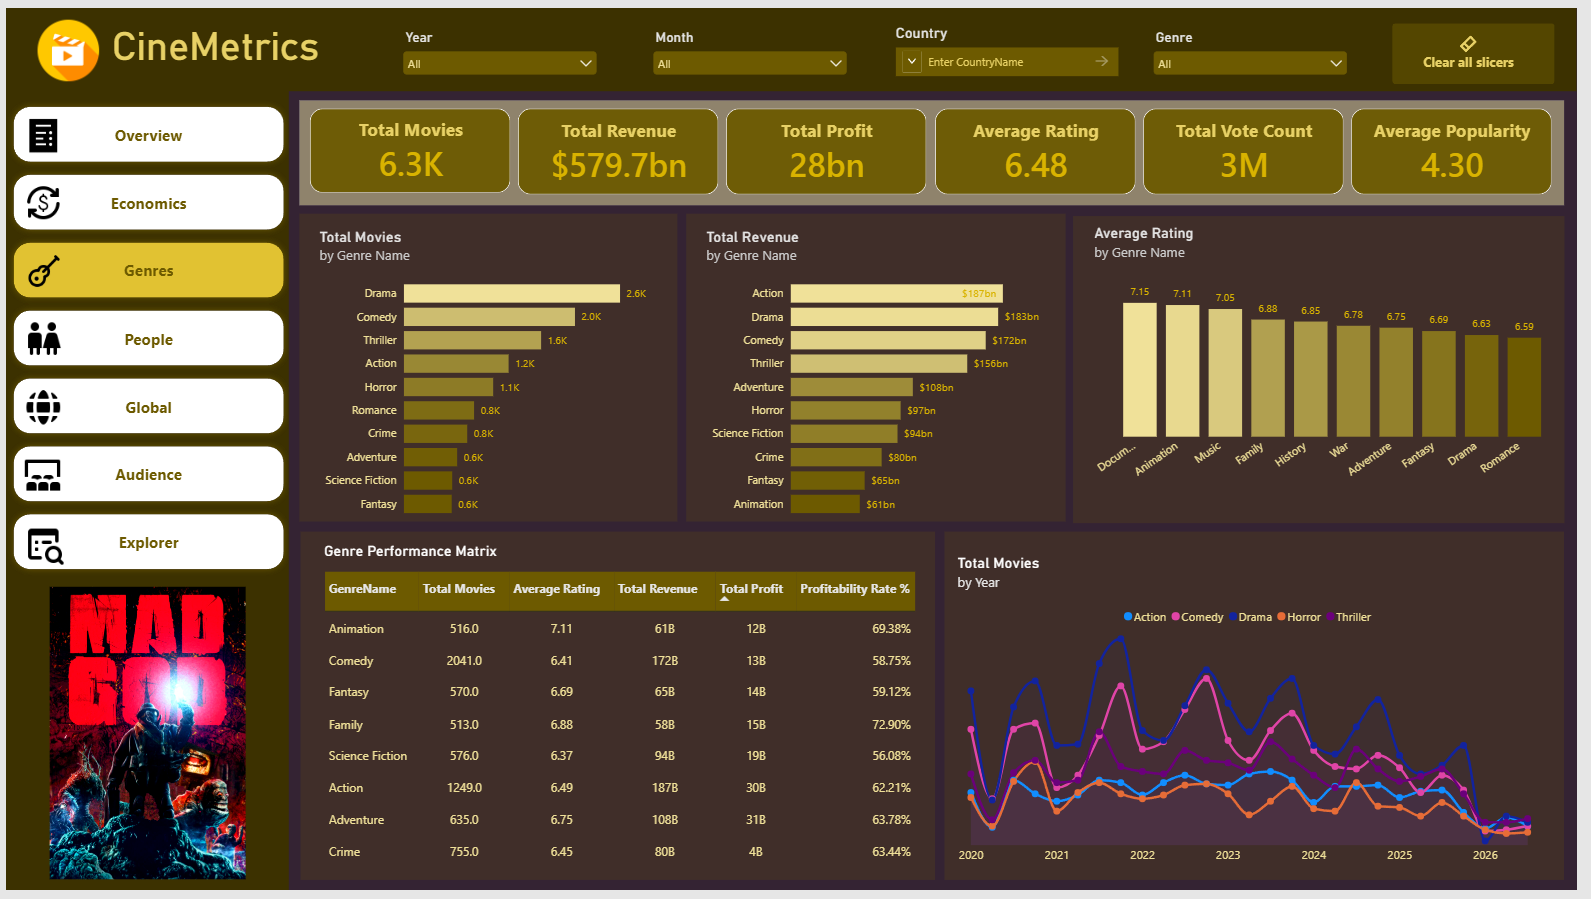

What the dashboard file says about the page in this screenshot:
{"tool":"powerbi","page":{"name":"Genres","canvas":[1920,1080],"ordinal":3},"visuals":[{"type":"shape","box":[0,0,1919.7,101.7],"z":0,"group":"g1"},{"type":"group","id":"g1","title":"header","box":[0,0,1919.7,101.7],"z":0},{"type":"shape","box":[0,101.2,346,978.8],"z":0,"group":"g2"},{"type":"shape","box":[359.3,112.6,1546,128.7],"z":0,"group":"g3"},{"type":"textbox","title":"CineMetrics","box":[130.3,19.1,274.9,62],"z":1000,"group":"g1"},{"type":"group","id":"g2","title":"side panel","box":[0,101.2,347.9,978.8],"z":1000},{"type":"pageNavigator","box":[1.9,112.7,346,585],"z":1000,"group":"g2"},{"type":"cardVisual","fields":{"Data":["measure_KPI.Total Movies"]},"box":[372.2,122.8,245.6,103.8],"z":1000,"group":"g3"},{"type":"image","box":[38.3,13.8,75,75],"z":2000,"group":"g1"},{"type":"group","id":"g3","title":"kpis","box":[359.3,112.6,1546,128.7],"z":2000},{"type":"cardVisual","fields":{"Data":["measure_KPI.Total Profit"]},"box":[881.3,122.8,245.9,105.3],"z":2000,"group":"g3"},{"type":"image","box":[11.5,707.2,323.1,359.4],"z":2000,"group":"g2"},{"type":"actionButton","box":[1693.7,19.1,198.8,74.6],"z":3000,"group":"g1"},{"type":"cardVisual","fields":{"Data":["measure_KPI.Average Popularity"]},"box":[1645.4,122.8,245.9,105.3],"z":3000,"group":"g3"},{"type":"image","box":[15,629.1,60.1,50.1],"z":3000,"group":"g2"},{"type":"slicer","fields":{"Values":["dim dim_date.MonthName"]},"box":[1382,13.3,278.7,86.8],"z":4000,"group":"g1"},{"type":"cardVisual","fields":{"Data":["measure_KPI.Total Vote Count"]},"box":[1390.7,122.8,245.9,105.3],"z":4000,"group":"g3"},{"type":"image","box":[15,545.9,60.1,50.1],"z":4000,"group":"g2"},{"type":"slicer","fields":{"Values":["dim dim_date.MonthName"]},"box":[1076,13.3,278.7,86.8],"z":5000,"group":"g1"},{"type":"cardVisual","fields":{"Data":["measure_KPI.Average Rating"]},"box":[1136,122.8,245.9,105.3],"z":5000,"group":"g3"},{"type":"image","box":[15,462.8,60.1,50.1],"z":5000,"group":"g2"},{"type":"slicer","fields":{"Values":["dim dim_date.MonthName"]},"box":[770,13.3,278.7,86.8],"z":6000,"group":"g1"},{"type":"cardVisual","fields":{"Data":["measure_KPI.Total Revenue"]},"box":[626.7,122.8,245.9,105.3],"z":6000,"group":"g3"},{"type":"image","box":[15,379.6,60.1,50.1],"z":6000,"group":"g2"},{"type":"slicer","fields":{"Values":["dim dim_date.Year"]},"box":[464,13.3,278.7,86.8],"z":7000,"group":"g1"},{"type":"image","box":[15,296.4,60.1,50.1],"z":7000,"group":"g2"},{"type":"image","box":[15,213.2,60.1,50.1],"z":8000,"group":"g2"},{"type":"image","box":[15,130.1,60.1,50.1],"z":9000,"group":"g2"}]}

Visuals, with their boxes in screenshot pixels (x1, y1, x2, y2), scaled from the page's 1920x1080 canvas onto the 1591x899 screenshot:
shape: pyautogui.locateOnScreen(0, 0, 1590, 85)
"header" group: pyautogui.locateOnScreen(0, 0, 1590, 85)
shape: pyautogui.locateOnScreen(0, 84, 287, 898)
shape: pyautogui.locateOnScreen(298, 94, 1579, 201)
"CineMetrics" textbox: pyautogui.locateOnScreen(108, 16, 336, 68)
"side panel" group: pyautogui.locateOnScreen(0, 84, 288, 898)
pageNavigator: pyautogui.locateOnScreen(2, 94, 288, 581)
cardVisual - measure_KPI.Total Movies: pyautogui.locateOnScreen(308, 102, 512, 189)
image: pyautogui.locateOnScreen(32, 11, 94, 74)
"kpis" group: pyautogui.locateOnScreen(298, 94, 1579, 201)
cardVisual - measure_KPI.Total Profit: pyautogui.locateOnScreen(730, 102, 934, 190)
image: pyautogui.locateOnScreen(10, 589, 277, 888)
actionButton: pyautogui.locateOnScreen(1403, 16, 1568, 78)
cardVisual - measure_KPI.Average Popularity: pyautogui.locateOnScreen(1363, 102, 1567, 190)
image: pyautogui.locateOnScreen(12, 524, 62, 565)
slicer - dim dim_date.MonthName: pyautogui.locateOnScreen(1145, 11, 1376, 83)
cardVisual - measure_KPI.Total Vote Count: pyautogui.locateOnScreen(1152, 102, 1356, 190)
image: pyautogui.locateOnScreen(12, 454, 62, 496)
slicer - dim dim_date.MonthName: pyautogui.locateOnScreen(892, 11, 1123, 83)
cardVisual - measure_KPI.Average Rating: pyautogui.locateOnScreen(941, 102, 1145, 190)
image: pyautogui.locateOnScreen(12, 385, 62, 427)
slicer - dim dim_date.MonthName: pyautogui.locateOnScreen(638, 11, 869, 83)
cardVisual - measure_KPI.Total Revenue: pyautogui.locateOnScreen(519, 102, 723, 190)
image: pyautogui.locateOnScreen(12, 316, 62, 358)
slicer - dim dim_date.Year: pyautogui.locateOnScreen(384, 11, 615, 83)
image: pyautogui.locateOnScreen(12, 247, 62, 288)
image: pyautogui.locateOnScreen(12, 177, 62, 219)
image: pyautogui.locateOnScreen(12, 108, 62, 150)
